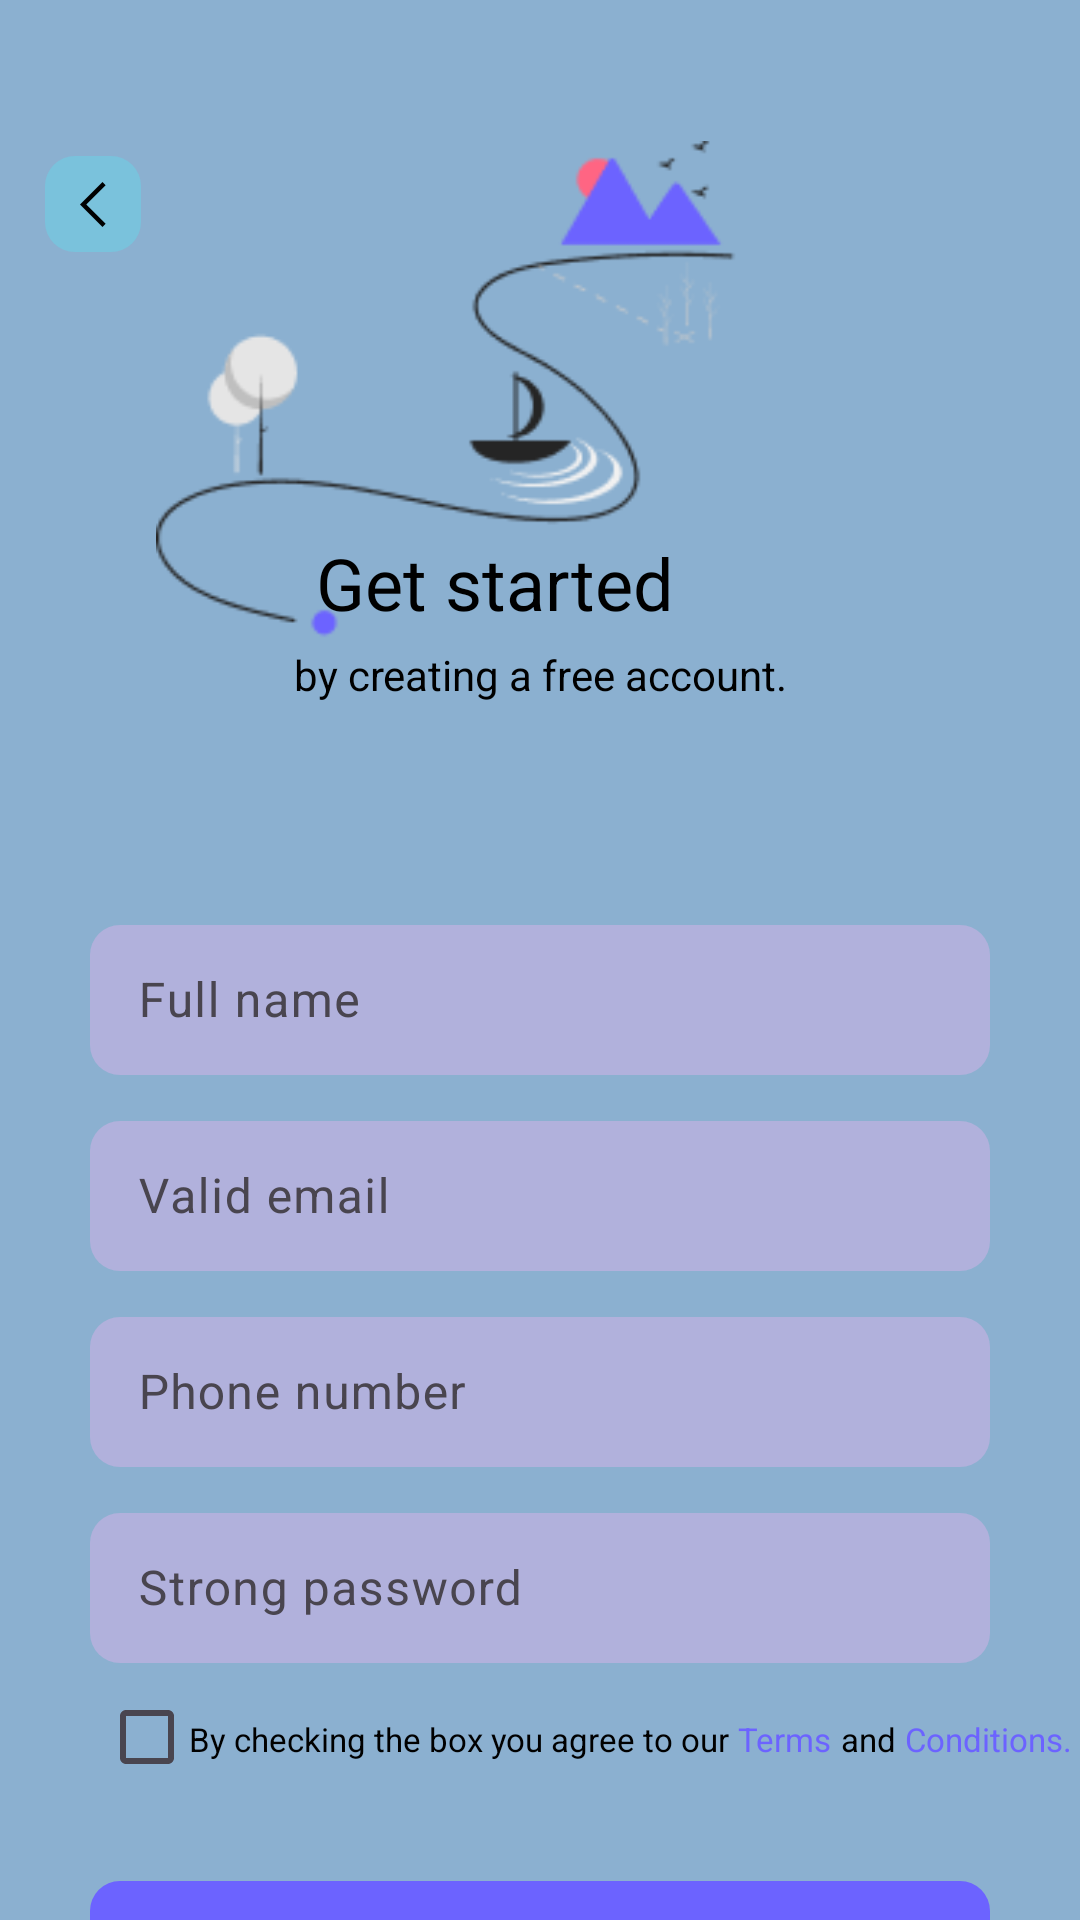

Point at icon controls on the screen. Image size 1080w x 1920h, points as (x=x, y=y).
back detail: (x=93, y=204)
